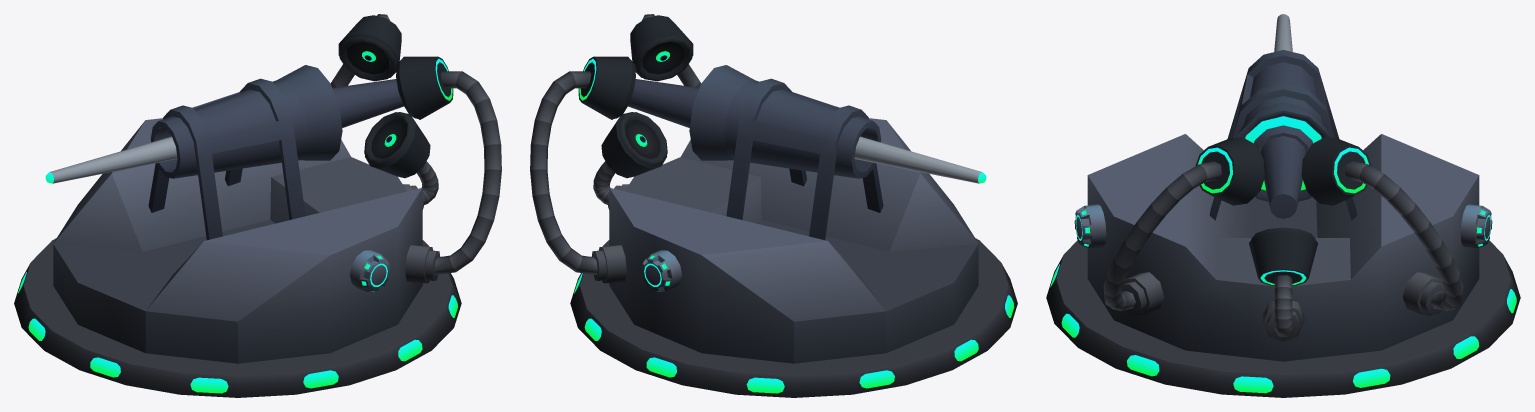
Rendered from turquoise_03.fbx.
3 renders of one model, left to right at view 1: azimuth 30°, elevation 25°; view 2: azimuth 150°, elevation 25°; view 3: azimuth 270°, elevation 25°, orthographic. The views are drawn at different scales.
Parts seen in each view (by area): view 1: Circle.013, turquoise_03; view 2: Circle.013, turquoise_03; view 3: Circle.013, turquoise_03.
Part boxes in pixels (left/top/right/bottom): Circle.013: left=45, top=14, right=501, bottom=363; turquoise_03: left=14, top=238, right=461, bottom=397; Circle.013: left=530, top=14, right=986, bottom=363; turquoise_03: left=570, top=238, right=1017, bottom=397; Circle.013: left=1074, top=14, right=1492, bottom=361; turquoise_03: left=1046, top=240, right=1520, bottom=397.
Size of the model in its own units: 522 by 285 by 514.
